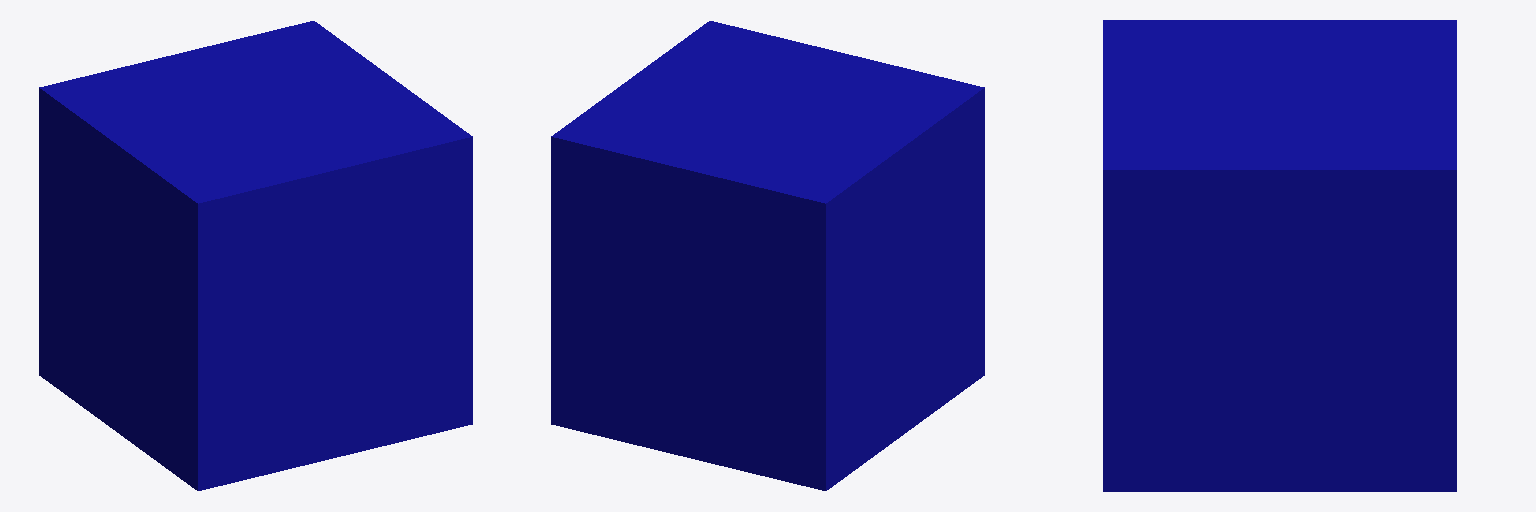
URDF robot description (cube):
<?xml version="1.0" ?>
<robot name="cube">
    <material name="red">
        <color rgba="0.69 0.09 0.12 1"/>
    </material>
    <material name="green">
        <color rgba="0.0 0.69 0.2 1"/>
    </material>
    <material name="blue">
        <color rgba="0.1 0.1 0.69 1"/>
    </material>
    <material name="yellow">
        <color rgba="0.8 0.8 0.0 1"/>
    </material>
    <material name="purple">
        <color rgba="0.69 0.1 0.69 1"/>
    </material>
    <material name="cyan">
        <color rgba="0.0 0.69 0.69 1"/>
    </material>
    <material name="orange">
        <color rgba="0.95 0.5 0.2 1"/>
    </material>
    <material name="pink">
        <color rgba="1 0.75 0.8 1"/>
    </material>

    <link name="cube_link">
        <contact>
          <lateral_friction value="1"/>
          <rolling_friction value="1"/>
          <spinning_friction value="1"/>

          <inertia_scaling value="0.5"/>
        </contact>
        <inertial>
          <origin rpy="0 0 0" xyz="0 0 0"/>
           <mass value="3"/>
           <inertia ixx="0.0" ixy="0.0" ixz="0.0" iyy="0.0" iyz="0.0" izz="0.0"/>
        </inertial>
        <visual>
          <origin rpy="0 0 0" xyz="0 0 0"/>
          <geometry>
            <box size=".06 .06 .06"/>
          </geometry>
          <material name="blue" />
        </visual>
        <collision>
          <origin rpy="0 0 0" xyz="0 0 0"/>
          <geometry>
            <box size=".06 .06 .06"/>
          </geometry>
        </collision>
    </link>

</robot>

--- What the picture shows (computed from the rendered views, not written in the file) ---
3 views of the same robot in one strip: view 1: azimuth 30°, elevation 25°; view 2: azimuth 150°, elevation 25°; view 3: azimuth 270°, elevation 25° (orthographic).
Model cube with 1 links and 0 joints (none), rooted at cube_link, posed every joint at zero.
Links seen in each view (by area): view 1: cube_link; view 2: cube_link; view 3: cube_link.
Boxes of the visible links, x1,y1,x2,y2 form: cube_link: (39,21,472,490); cube_link: (551,21,984,490); cube_link: (1103,20,1456,491).
Bounding box of the posed robot: 0.06 × 0.06 × 0.06 m (x, y, z).
Geometry: primitives only (box / cylinder / sphere), no mesh files.